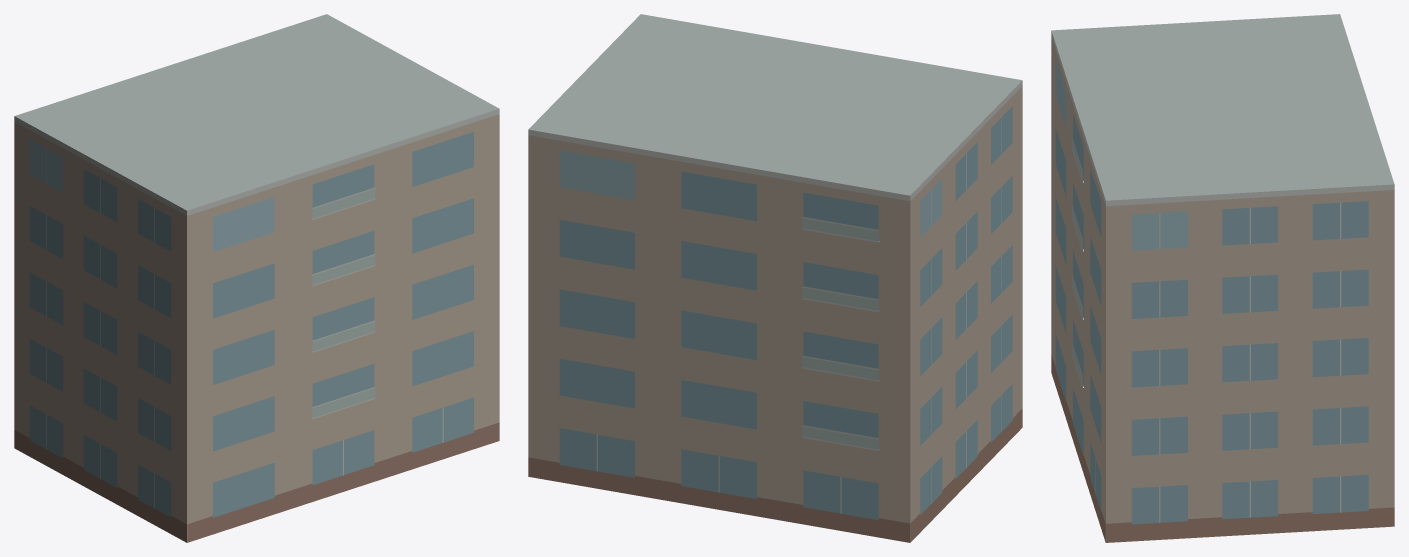
Rendered from survey-upis-32715430.glb.
The picture shows the model from 3 angles, left to right: view 1: azimuth 30°, elevation 25°; view 2: azimuth 150°, elevation 25°; view 3: azimuth 270°, elevation 25°; orthographic projection. The views are drawn at different scales.
Visible parts, largest first — view 1: survey-upis-32715430.tmp; view 2: survey-upis-32715430.tmp; view 3: survey-upis-32715430.tmp.
Part boxes in pixels (x1,y1,x2,y2): survey-upis-32715430.tmp: [14, 14, 499, 542]; survey-upis-32715430.tmp: [528, 14, 1022, 542]; survey-upis-32715430.tmp: [1051, 14, 1394, 542].
Size of the model in its own units: 17.68 by 15.1 by 13.74.
